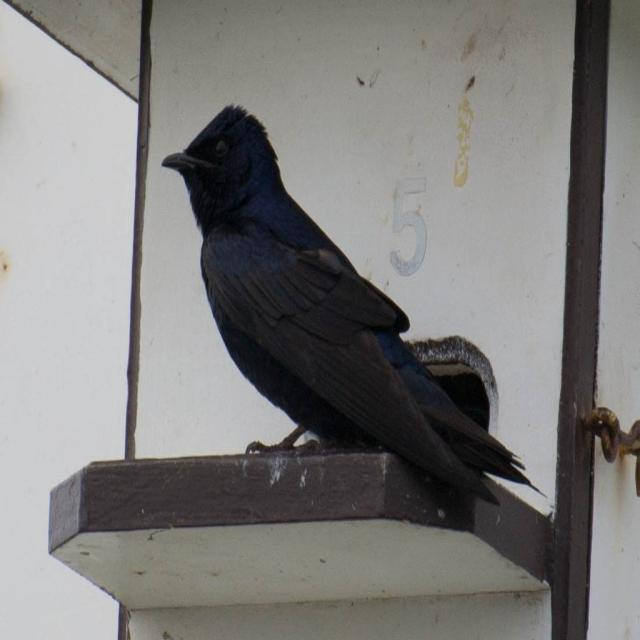bird: (153, 99, 553, 528)
